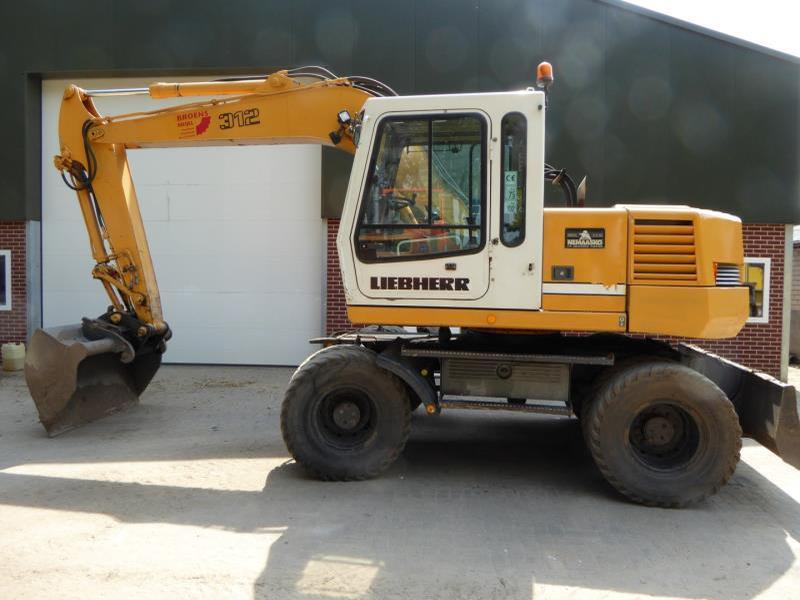shovel: (20, 74, 755, 513)
